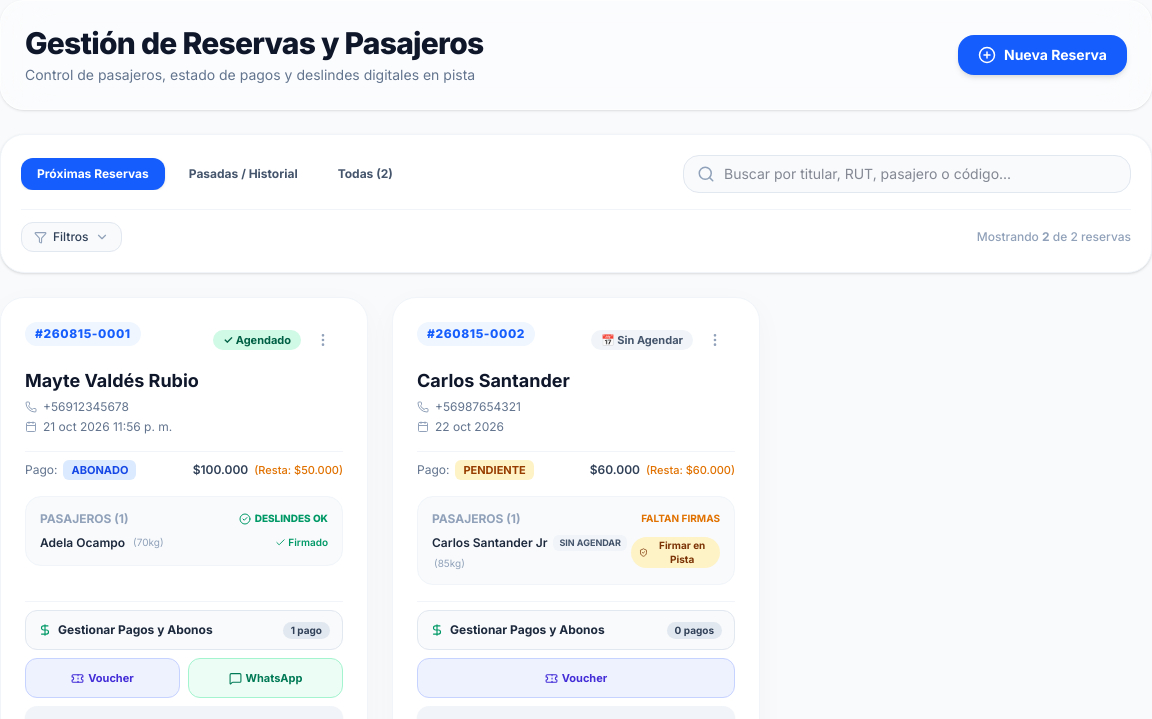
Test case: Página de Reservas (/reservas) - Pruebas Unitarias y de Componente › 4. Debe abrir el modal de nueva reserva al hacer clic en "Nueva Reserva"
The width and height of the screenshot is (1152, 719).
Click the button "Nueva Reserva" at (1042, 55), box [958,35,1127,75]
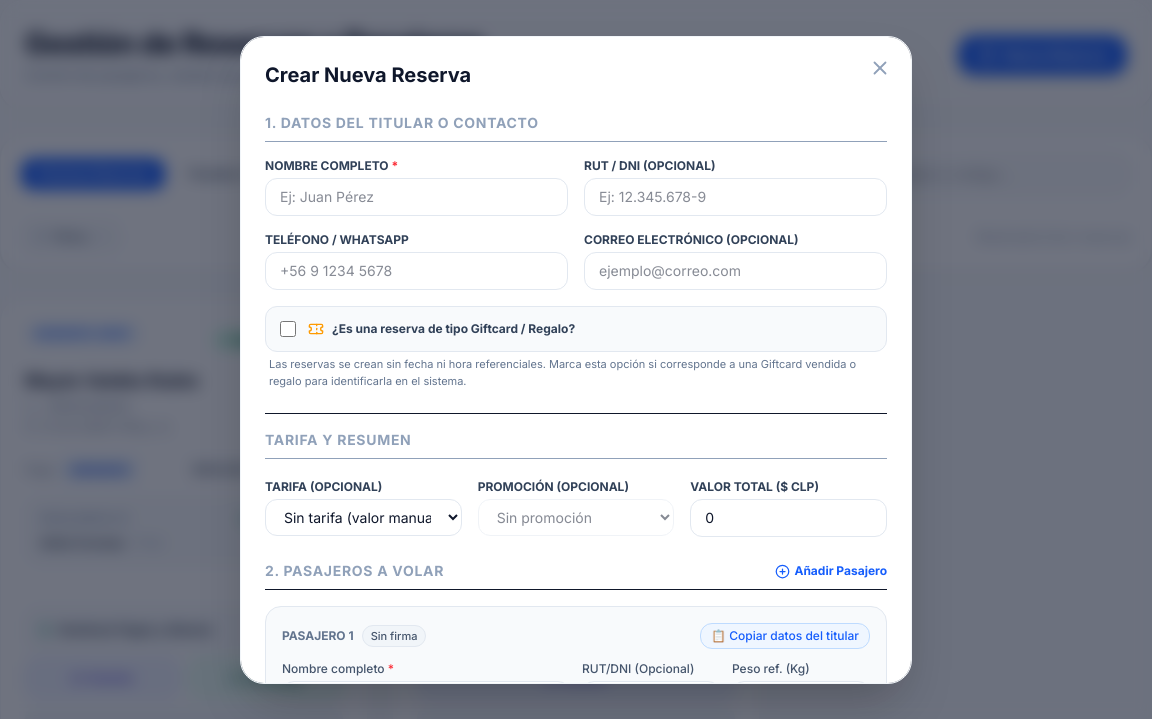
Check: the heading "Crear Nueva Reserva" is shown, box [265,63,471,87]
